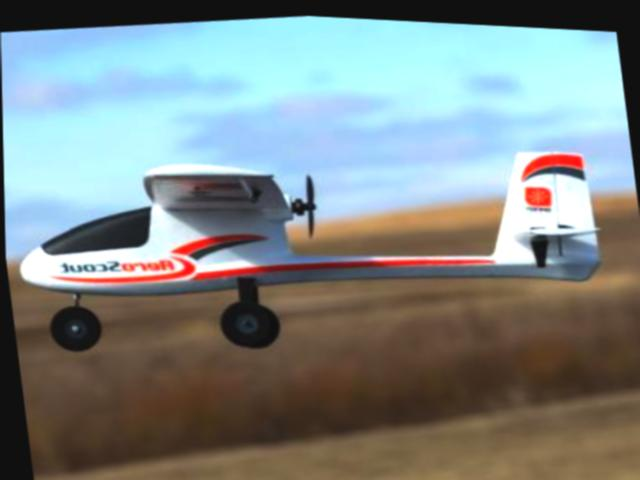uav: (2, 106, 607, 330)
